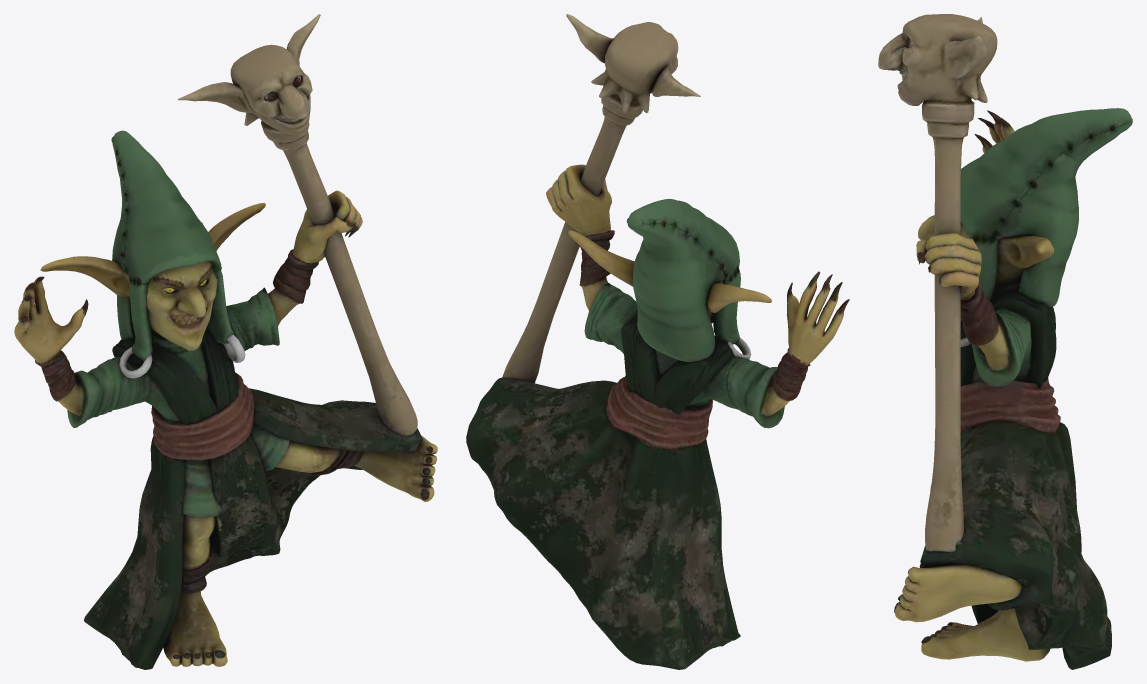
Rendered from MZ4250 - Nilbog2.glb.
3 views of the same model, side by side, from view 1: azimuth 30°, elevation 25°; view 2: azimuth 150°, elevation 25°; view 3: azimuth 270°, elevation 25° (orthographic). The views are drawn at different scales.
Visible parts, largest first — view 1: Torus.002; view 2: Torus.002; view 3: Torus.002.
Boxes of the visible parts, x1,y1,x2,y2 form: Torus.002: (14,14,437,669); Torus.002: (466,14,849,669); Torus.002: (878,14,1132,669).
Bounding box in the file's own units: 59.85 × 91.8 × 30.35.
Materials: 1 (1 with a texture image).
